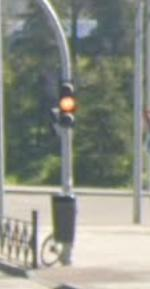yellow_light: (59, 79, 76, 127)
